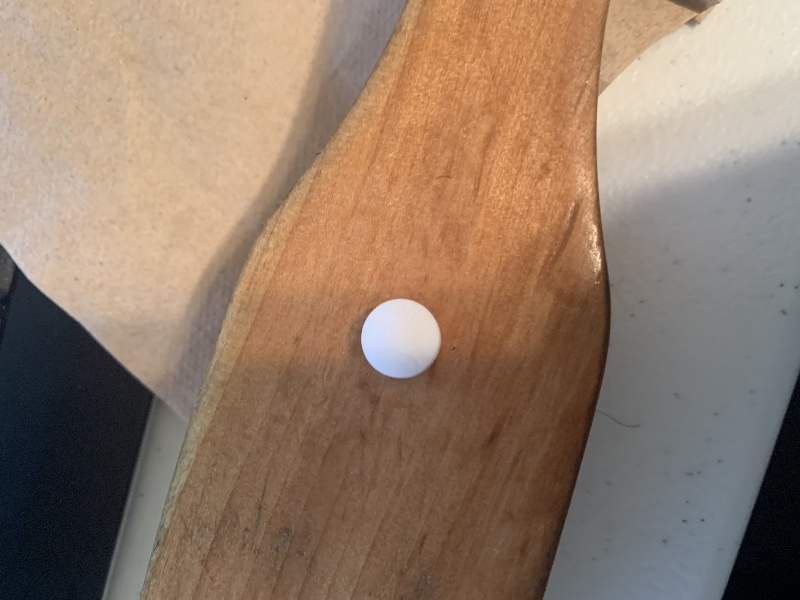Aspirin: (355, 294, 449, 386)
